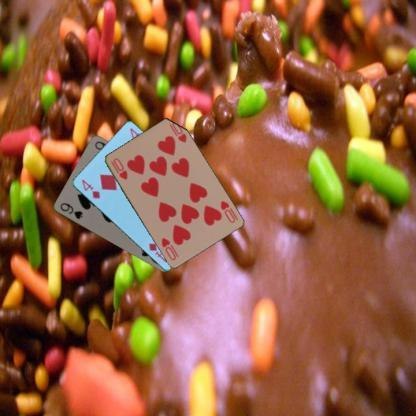10h: (108, 155, 129, 181), (218, 197, 236, 224)
4d: (79, 177, 101, 200)
9s: (58, 200, 84, 221)
